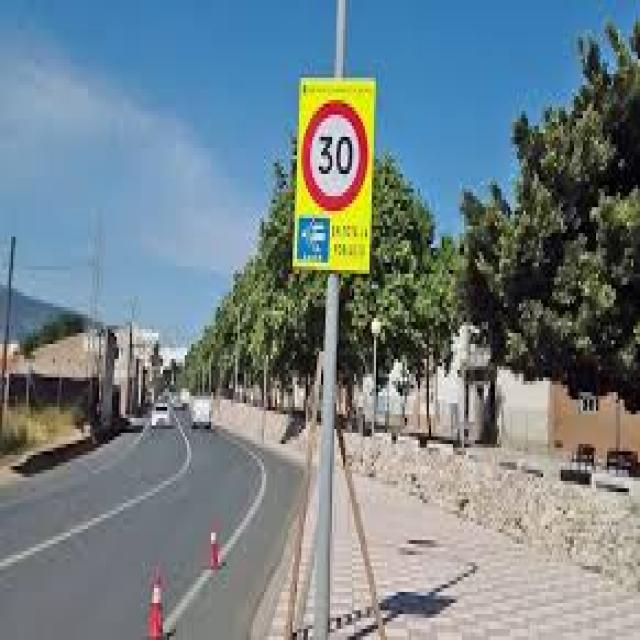Speed limit 30: (300, 97, 372, 218)
